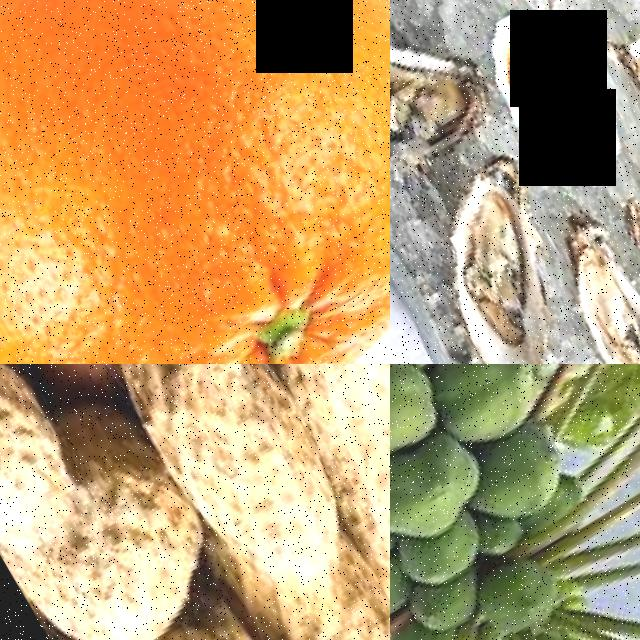orange: (0, 0, 390, 364)
oysters: (394, 153, 609, 364), (390, 0, 503, 192), (535, 213, 640, 364)
pawpaw: (390, 426, 490, 565), (412, 364, 553, 457), (467, 422, 573, 528), (465, 550, 572, 640), (390, 512, 490, 602), (390, 364, 445, 480)
peanuts: (72, 364, 390, 640), (0, 380, 241, 640), (187, 364, 390, 630), (0, 364, 168, 640)
